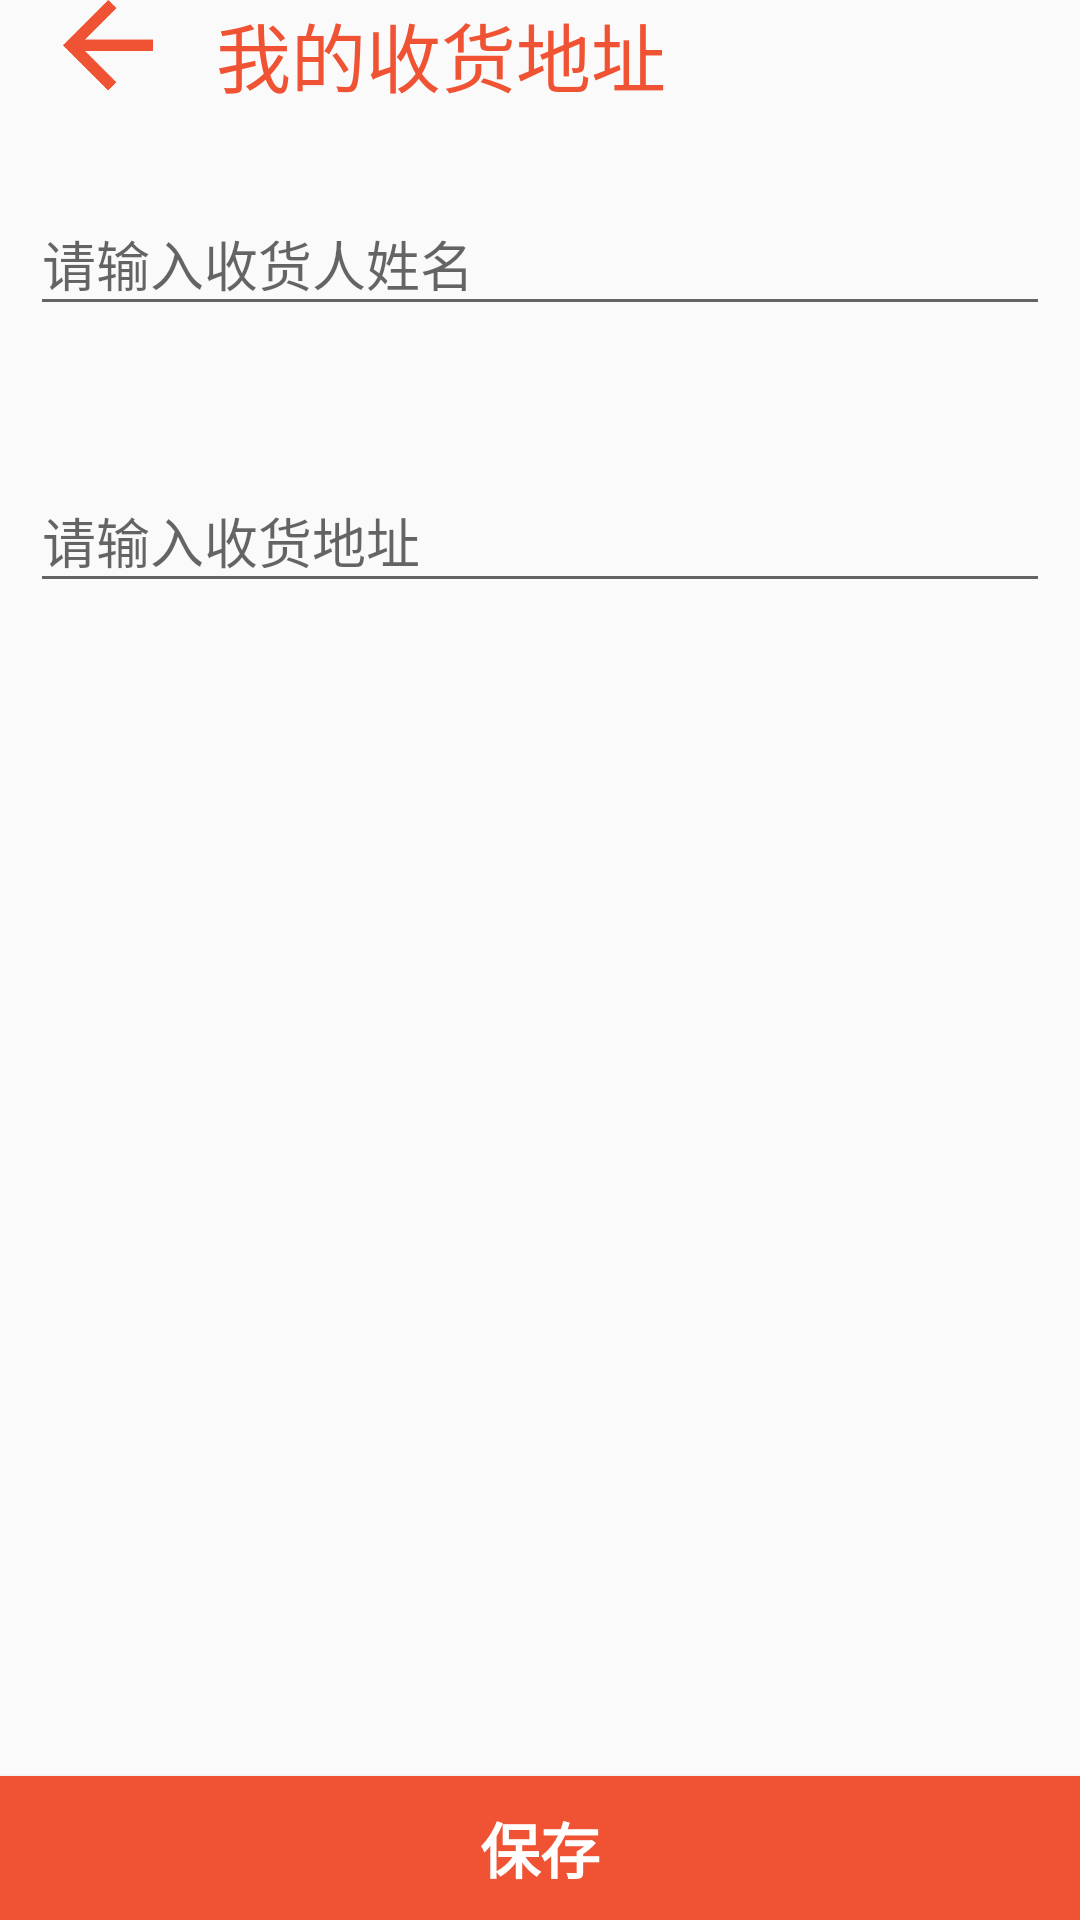

Locate icon controls on the screen. Image size 1080px x 1920px, boxes as (x1, y1, x2, y2).
return last: (63, 0, 153, 90)
